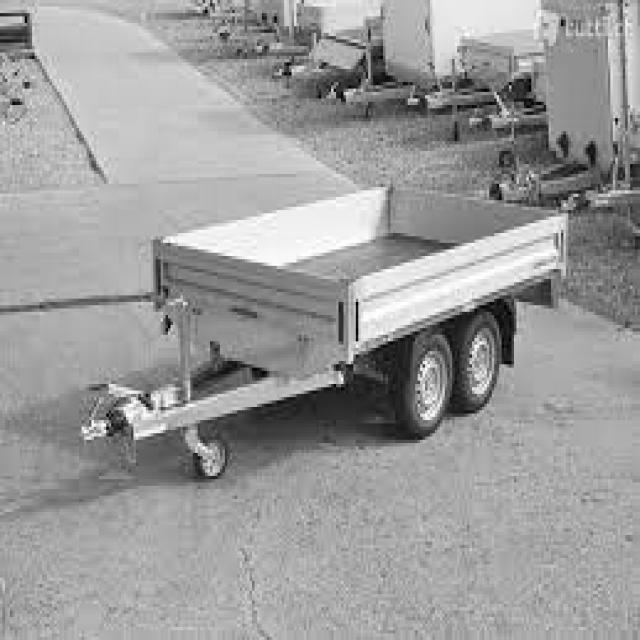Trailer: (83, 187, 570, 481)
